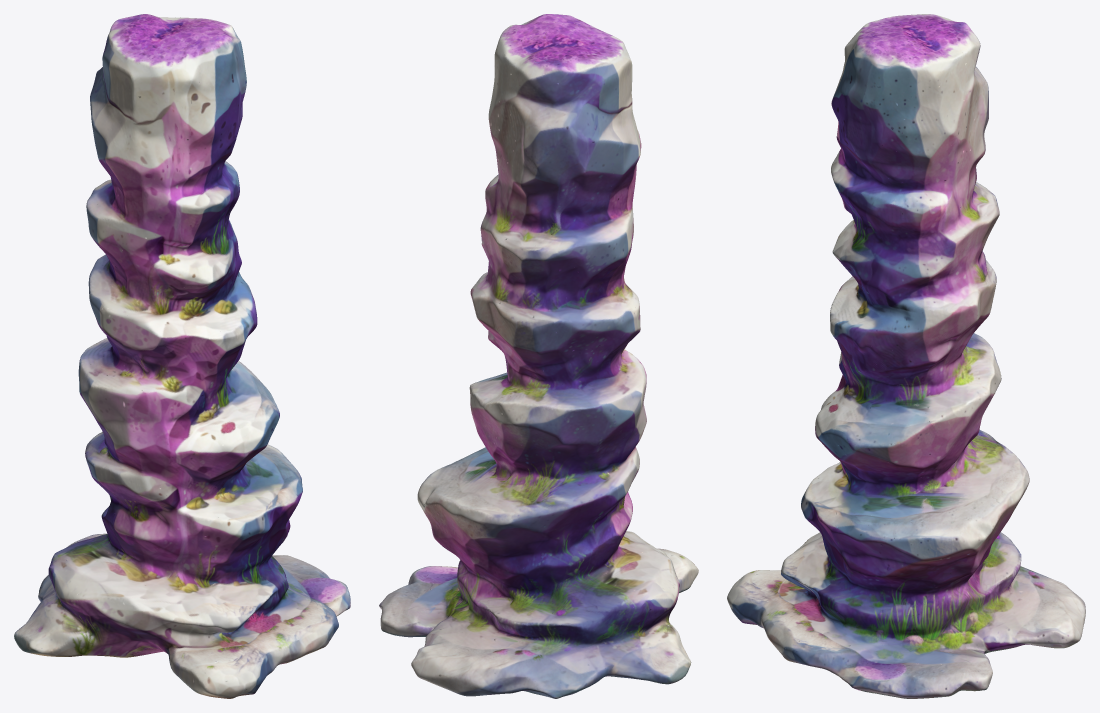
File: pillar_texture.glb
3 views of the same model, side by side, from view 1: azimuth 30°, elevation 25°; view 2: azimuth 150°, elevation 25°; view 3: azimuth 270°, elevation 25° (orthographic).
Bounding box in the file's own units: 1.03 × 2 × 1.09.
Materials: 1 (1 with a texture image).
